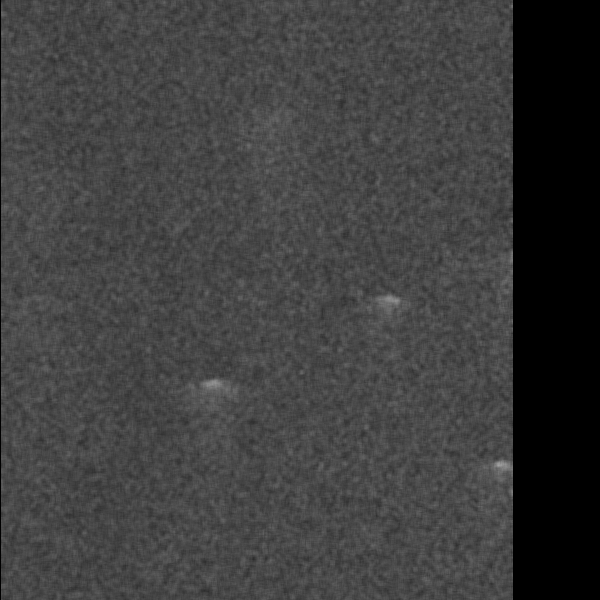spark: (69, 123, 135, 213), (387, 46, 472, 106), (336, 348, 371, 492), (415, 353, 459, 440), (62, 500, 119, 560), (309, 114, 338, 184), (385, 343, 420, 394), (236, 250, 267, 303), (336, 172, 369, 217), (12, 79, 50, 112), (422, 475, 474, 494), (419, 265, 458, 284)
